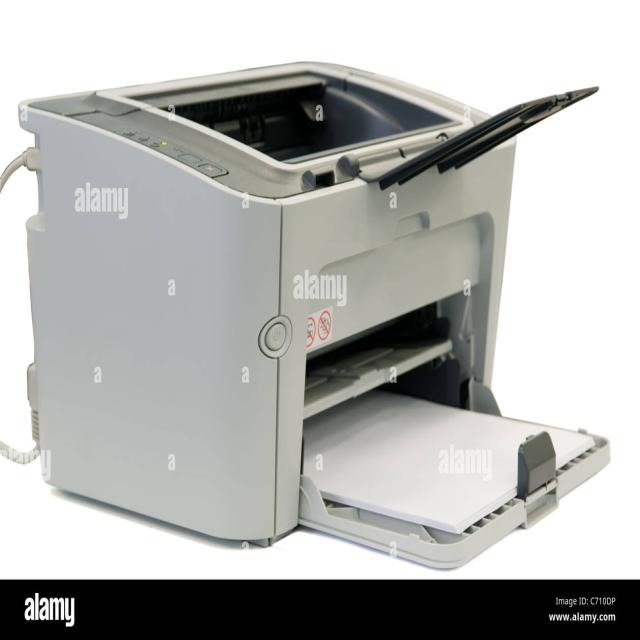printer: (10, 59, 611, 570)
